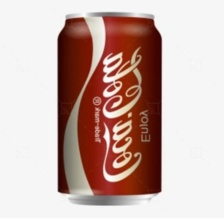can: (53, 8, 164, 206)
